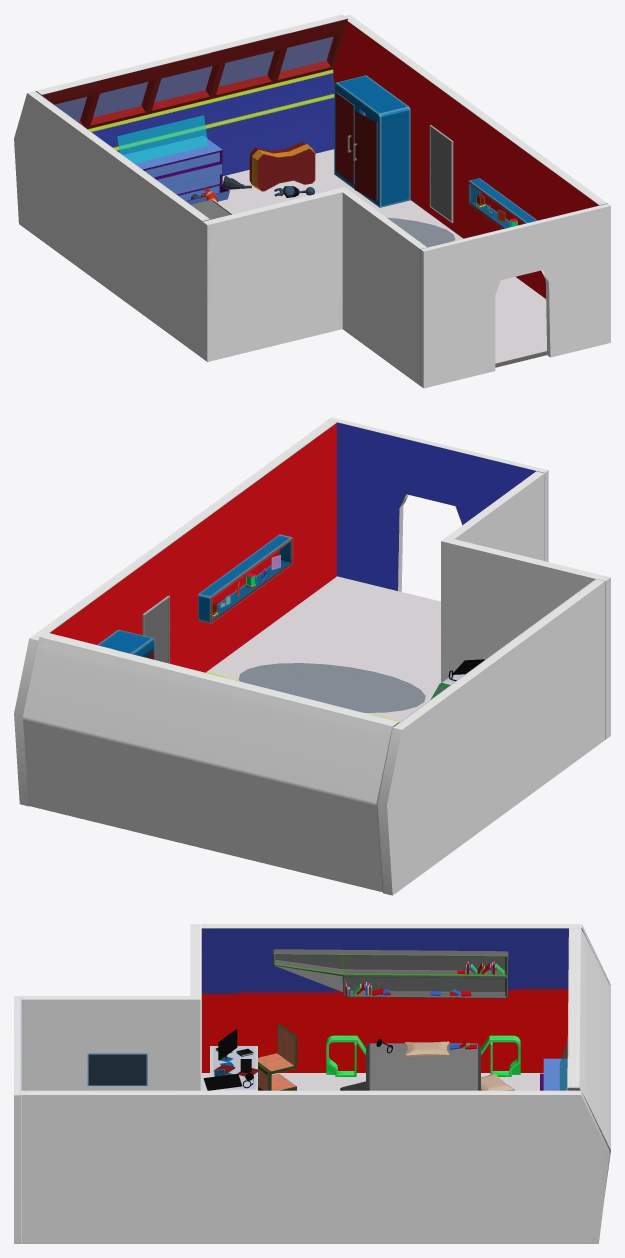
File: QUARTO3.fbx
The picture shows the model from 3 angles, top to bottom: view 1: azimuth 30°, elevation 25°; view 2: azimuth 150°, elevation 25°; view 3: azimuth 270°, elevation 25°; orthographic projection. The views are drawn at different scales.
Visible parts, largest first — view 1: Quarto_Robô3:pCube19, pasted__group23_pasted__pCube5_pasted__polySurface73, pasted__polySurface193, pasted__pasted__pCube15, pasted__pasted__pCube7, pasted__pasted__pCube12, pasted__pasted__pDisc2; view 2: Quarto_Robô3:pCube19, pasted__pasted__pDisc3, pasted__pasted__pCube12, pasted__pasted__pCube7, pasted__group23_pasted__pCube5_pasted__polySurface73; view 3: Quarto_Robô3:pCube19, Quarto_Robô2:quarto:Armario_Livros, pasted__pasted__polySurface66, pasted__pasted__pCube14, pasted__pasted__pCube16, polySurface161, pasted__pasted__pCube10, pasted__polySurface193, pasted__pasted__polySurface65, pasted__pasted__pCube17, pasted__pasted__pCube3.
Boxes of the visible parts, x1,y1,x2,y2 form: Quarto_Robô3:pCube19: [14, 14, 610, 388]; pasted__group23_pasted__pCube5_pasted__polySurface73: [334, 75, 410, 207]; pasted__polySurface193: [117, 115, 229, 204]; pasted__pasted__pCube15: [249, 142, 315, 191]; pasted__pasted__pCube7: [429, 125, 453, 222]; pasted__pasted__pCube12: [468, 178, 537, 228]; pasted__pasted__pDisc2: [387, 217, 455, 247]; Quarto_Robô3:pCube19: [14, 417, 610, 895]; pasted__pasted__pDisc3: [238, 663, 425, 712]; pasted__pasted__pCube12: [198, 534, 293, 623]; pasted__pasted__pCube7: [142, 595, 169, 663]; pasted__group23_pasted__pCube5_pasted__polySurface73: [97, 629, 155, 659]; Quarto_Robô3:pCube19: [14, 924, 610, 1243]; Quarto_Robô2:quarto:Armario_Livros: [272, 949, 508, 998]; pasted__pasted__polySurface66: [326, 1035, 520, 1090]; pasted__pasted__pCube14: [87, 1053, 147, 1085]; pasted__pasted__pCube16: [258, 1023, 297, 1090]; polySurface161: [345, 960, 504, 1049]; pasted__pasted__pCube10: [210, 1046, 257, 1090]; pasted__polySurface193: [540, 1040, 568, 1090]; pasted__pasted__polySurface65: [405, 1041, 449, 1056]; pasted__pasted__pCube17: [203, 1069, 242, 1090]; pasted__pasted__pCube3: [218, 1029, 237, 1062].
Size of the model in its own units: 39.36 by 16.39 by 58.12.
25 materials, 24 textured.
